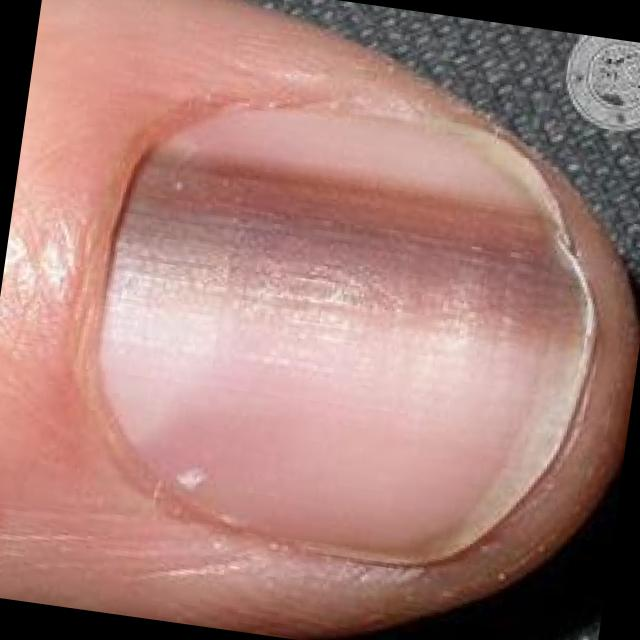Nail: (95, 101, 595, 563)
